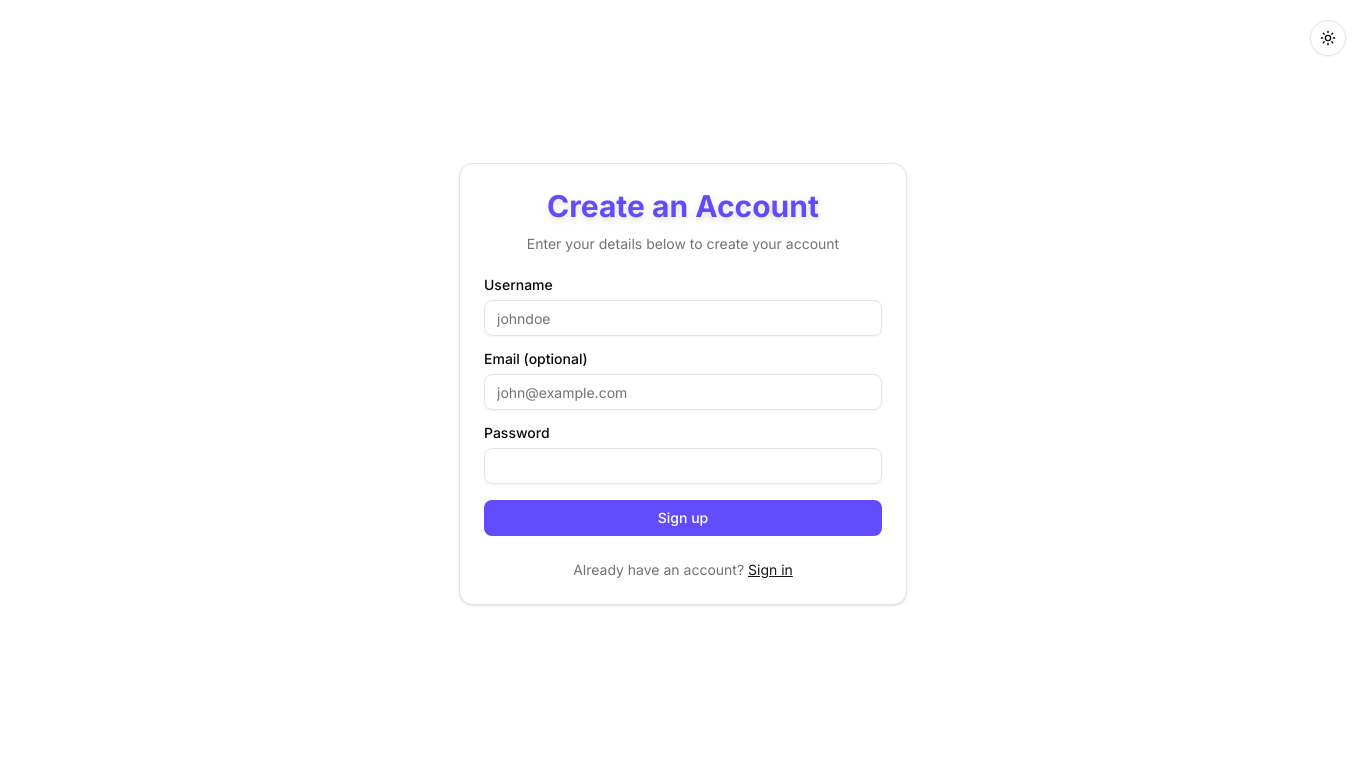
SignUpPage › shows username exists error when API returns username already exists error
The width and height of the screenshot is (1366, 768).
In the field labelled "Username": [683, 318] box [484,300,882,336], type "testuser"
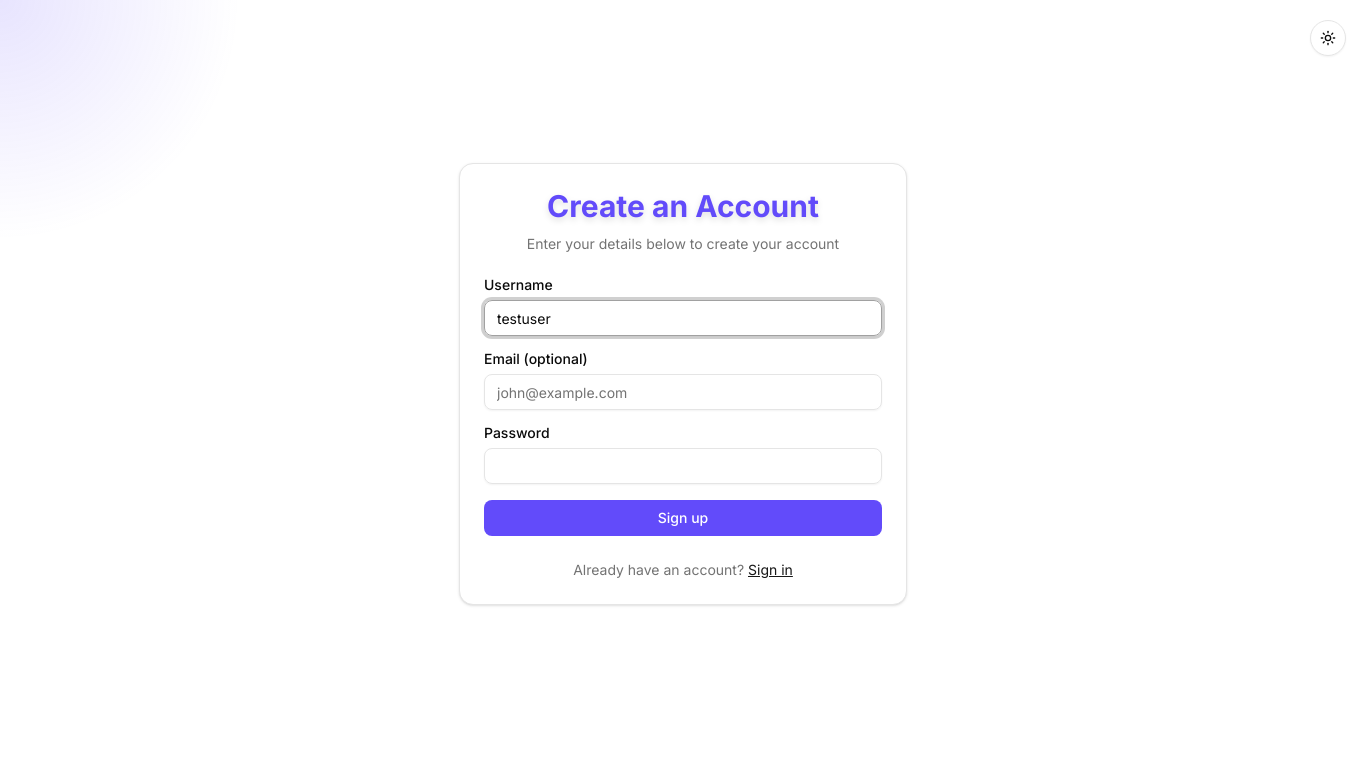
In the field labelled "Email (optional)": [683, 392] box [484,374,882,410], type "test@example.com"
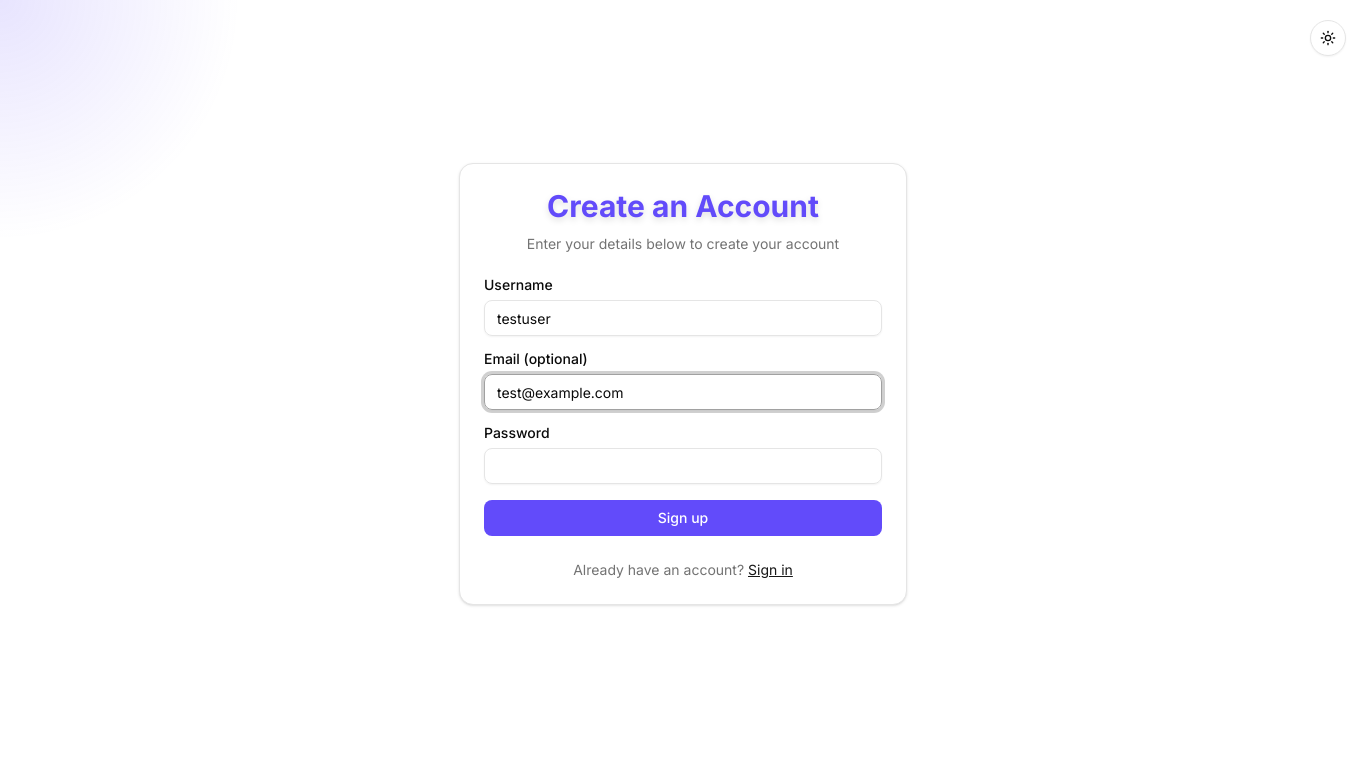
In the password field labelled "Password": [683, 466] box [484,448,882,484], type "password123"
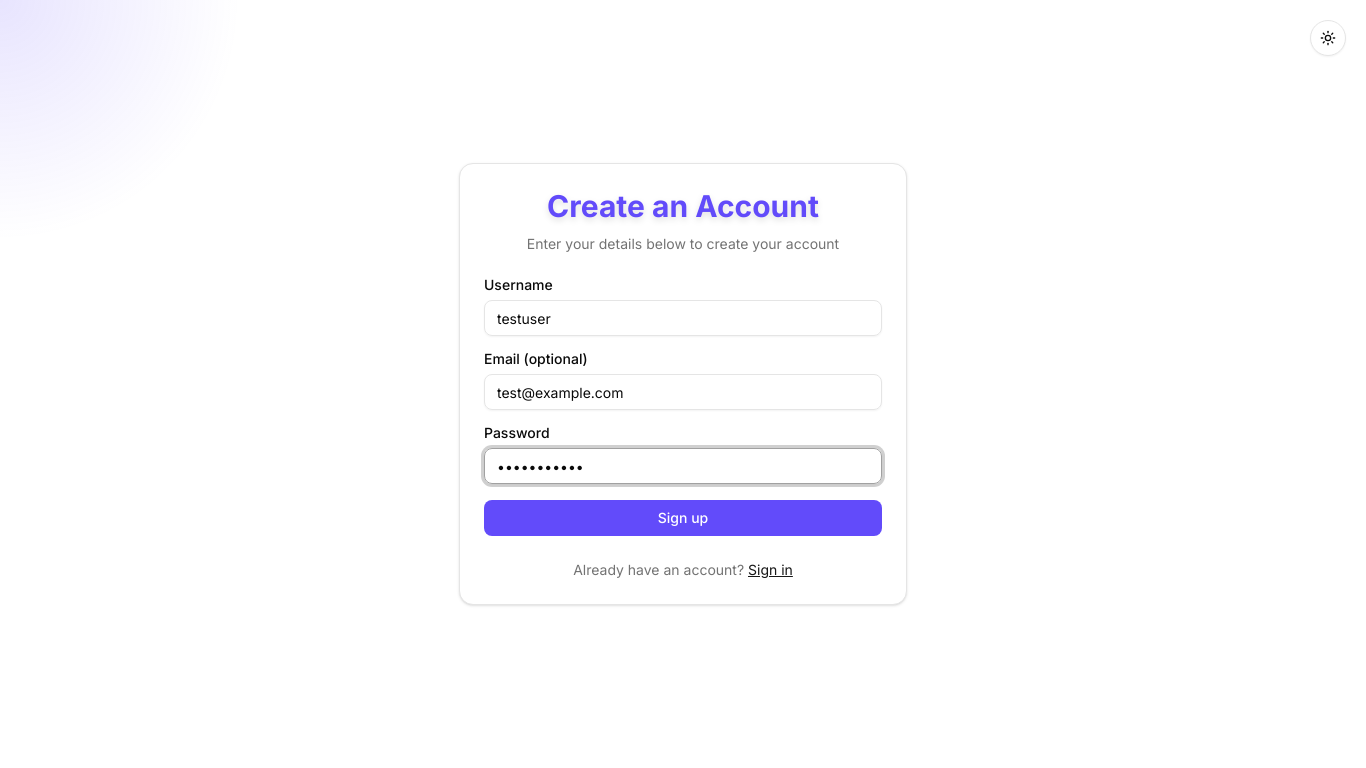
Click the button "Sign up": [683, 518] box [484,500,882,536]
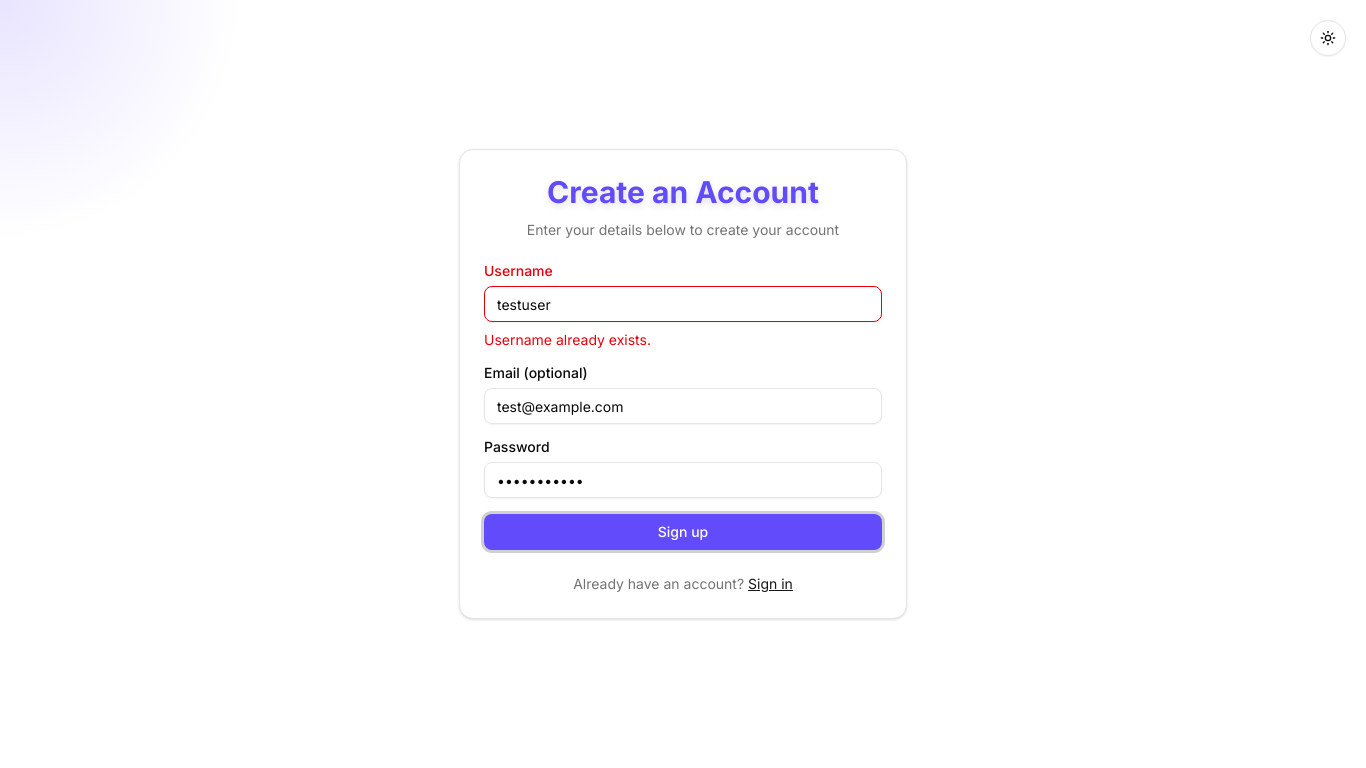
Expected: the text "Username already exists." is shown, [484,331,651,348]
